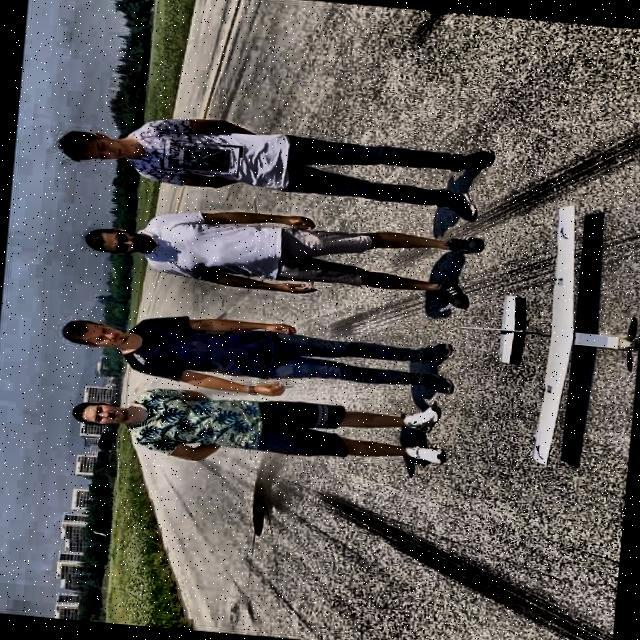iha: (448, 185, 640, 466)
